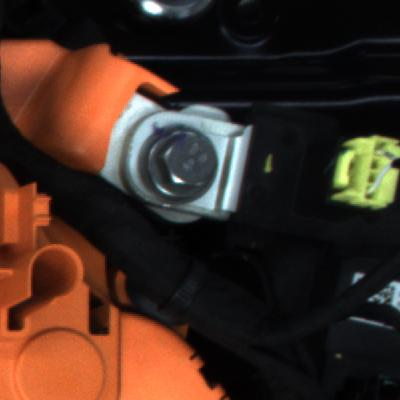nut_b: (122, 116, 219, 209)
